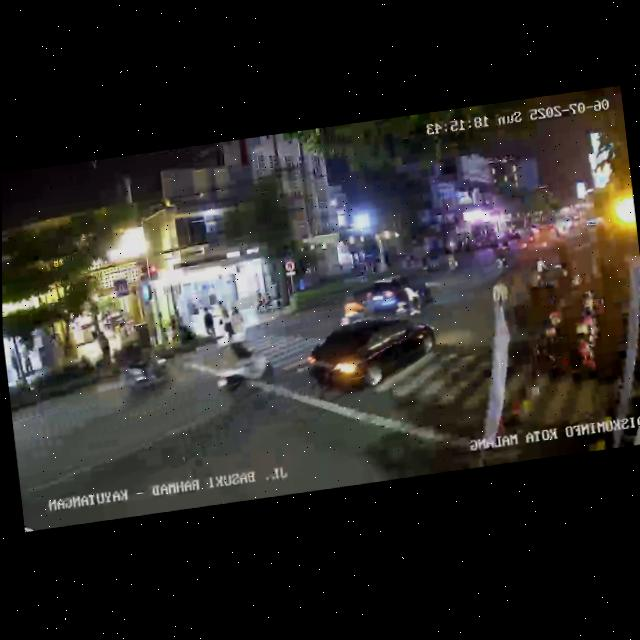car: (303, 309, 438, 401), (363, 271, 434, 316)
motorcycle: (210, 329, 277, 408), (119, 344, 175, 403), (390, 283, 424, 319), (336, 297, 368, 325), (493, 241, 512, 272), (444, 246, 462, 274), (531, 257, 549, 281)
person: (492, 274, 512, 313), (202, 306, 216, 341), (98, 327, 112, 361), (221, 306, 235, 339), (215, 299, 229, 326), (9, 350, 21, 380), (233, 305, 245, 334), (24, 350, 34, 376)
